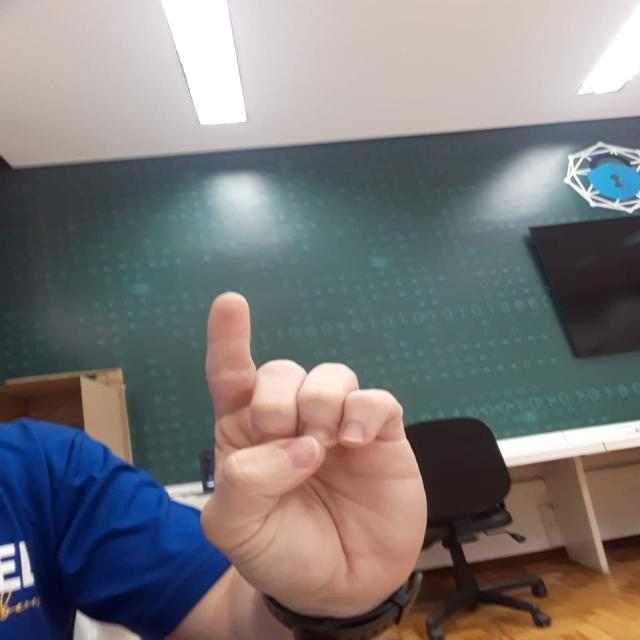D2: (193, 282, 447, 632)
